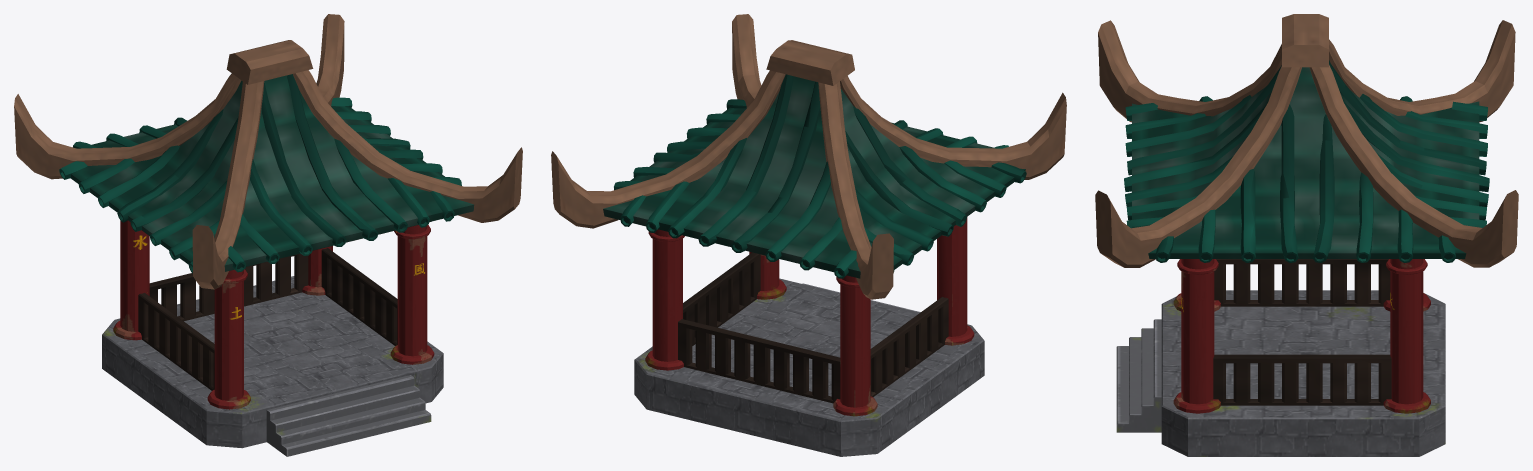
File: Building08.fbx
3 views of the same model, side by side, from view 1: azimuth 30°, elevation 25°; view 2: azimuth 150°, elevation 25°; view 3: azimuth 270°, elevation 25° (orthographic). The views are drawn at different scales.
Parts seen in each view (by area): view 1: Building08_mesh_mesh; view 2: Building08_mesh_mesh; view 3: Building08_mesh_mesh.
Boxes of the visible parts, box(x1,y1,x2,y2) form: Building08_mesh_mesh: box(14, 14, 522, 456); Building08_mesh_mesh: box(551, 14, 1066, 456); Building08_mesh_mesh: box(1095, 14, 1518, 456).
Size of the model in its own units: 200 by 187 by 199.
Materials: 1 (1 with a texture image).
